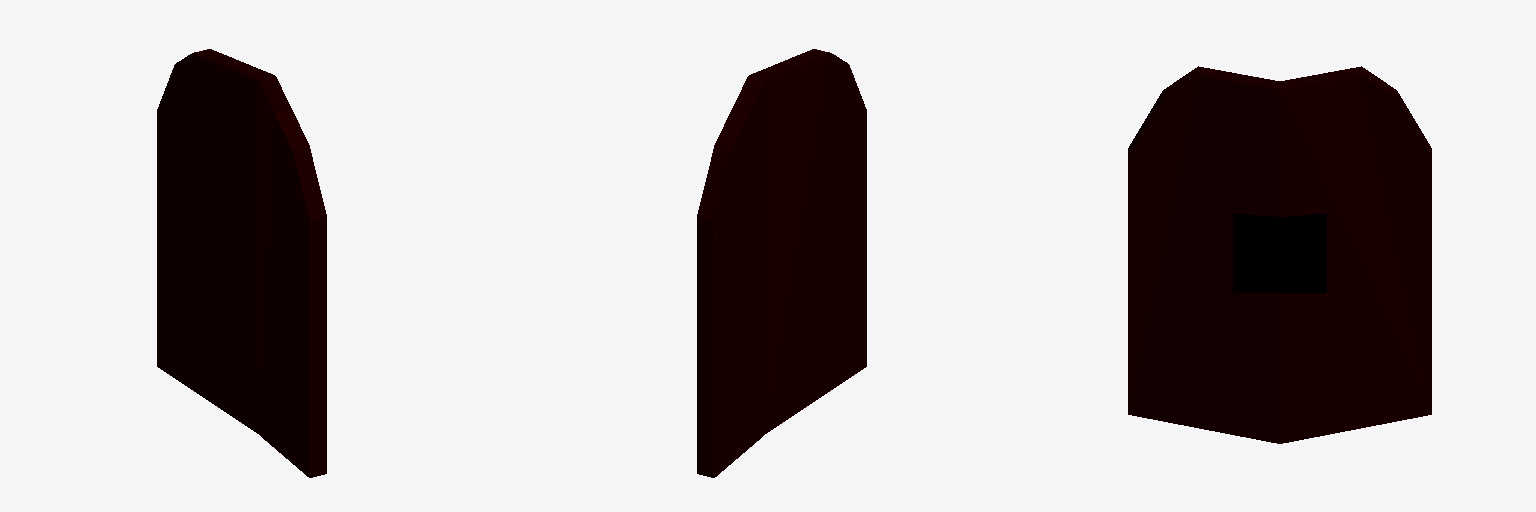
The model's file is Shield.obj.
3 views of the same model, side by side, from view 1: azimuth 30°, elevation 25°; view 2: azimuth 150°, elevation 25°; view 3: azimuth 270°, elevation 25° (orthographic).
Visible parts, largest first — view 1: Cube; view 2: Cube; view 3: Cube, Cube.001.
Part boxes in pixels (x1,y1,x2,y2): Cube: (157, 49, 326, 477); Cube: (697, 49, 866, 477); Cube: (1128, 66, 1431, 443); Cube.001: (1233, 213, 1326, 292).
Bounding box in the file's own units: 2.24 × 16.92 × 13.07.